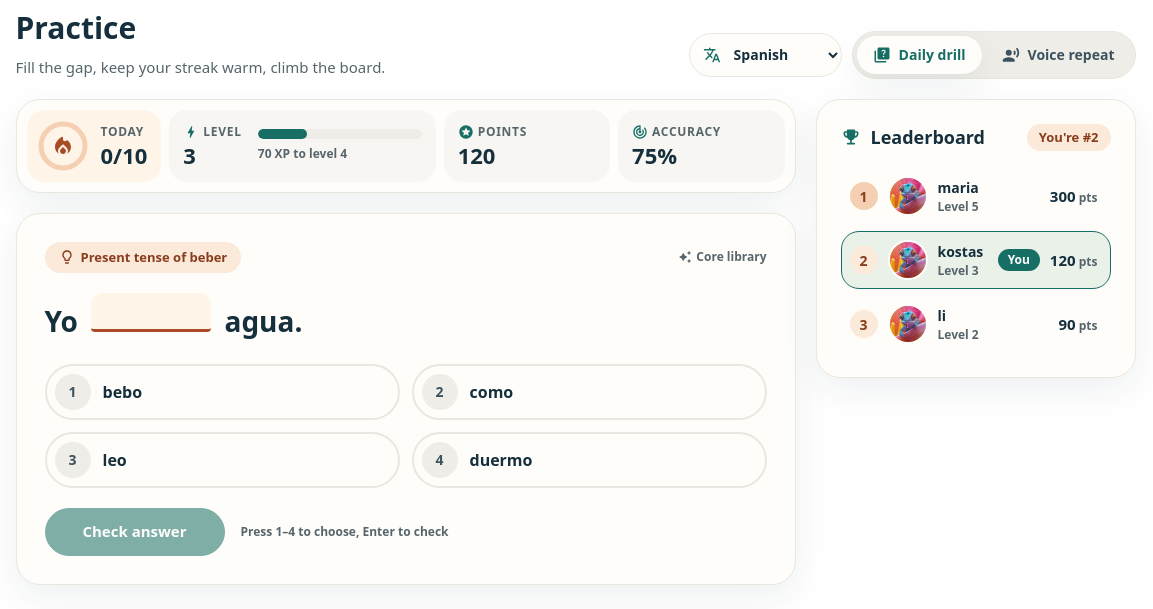
Test: PracticePage › selecting an option fills the blank; Check answer is disabled until a choice
Expected: the text "Present tense of beber" is shown, [44, 242, 241, 273]
Expected: the button "Check answer" is disabled, [44, 508, 224, 556]
Click the button "2 como": (440, 392) [412, 364, 766, 420]
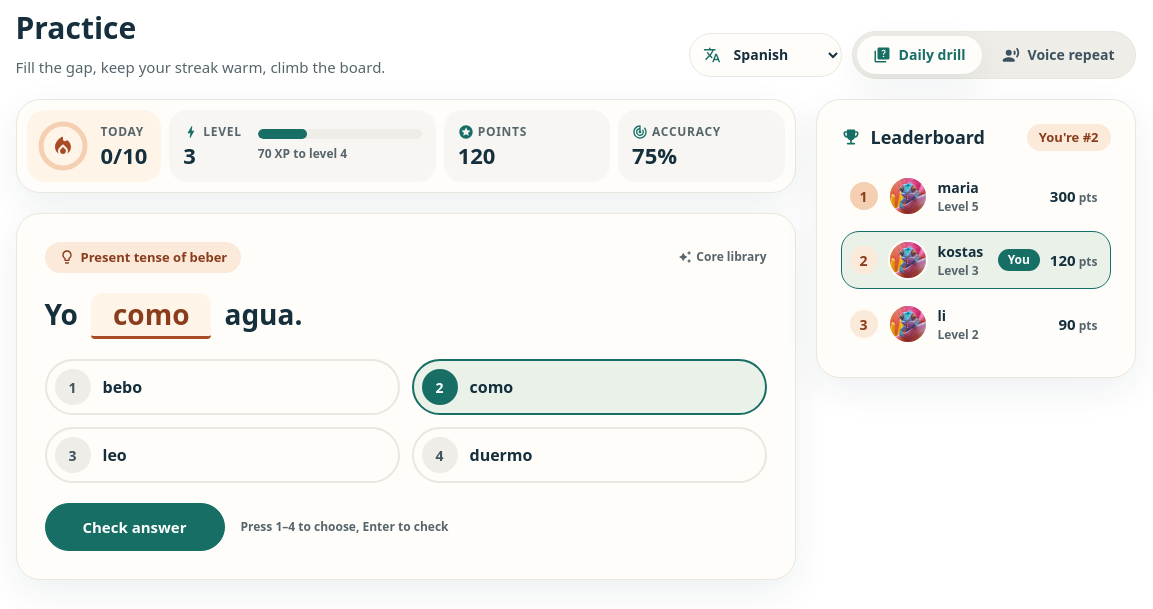
Result: the button "Check answer" is enabled at [44, 503, 224, 551]
Result: the text "como" next to "agua." is shown at [113, 295, 190, 333]
